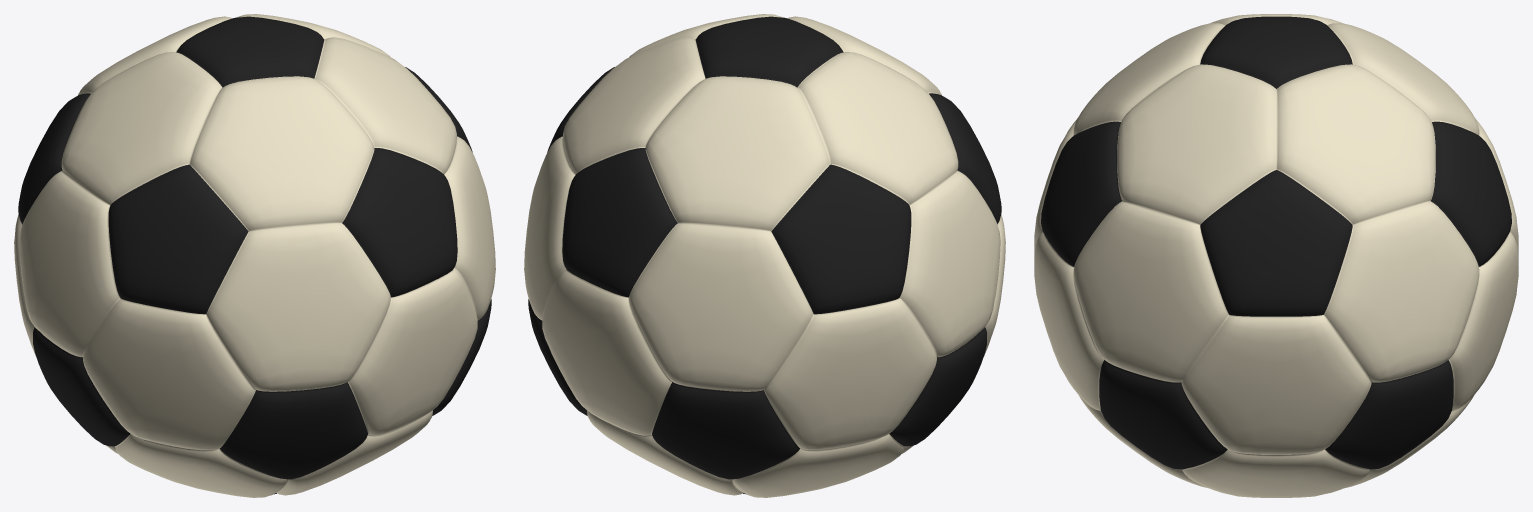
The picture shows the model from 3 angles, left to right: view 1: azimuth 30°, elevation 25°; view 2: azimuth 150°, elevation 25°; view 3: azimuth 270°, elevation 25°; orthographic projection.
Parts seen in each view (by area): view 1: soccer ball; view 2: soccer ball; view 3: soccer ball.
Part boxes in pixels (<box>): soccer ball: <box>14,14,495,497</box>; soccer ball: <box>524,14,1005,497</box>; soccer ball: <box>1034,14,1518,497</box>.
Size of the model in its own units: 1.65 by 1.66 by 1.65.
